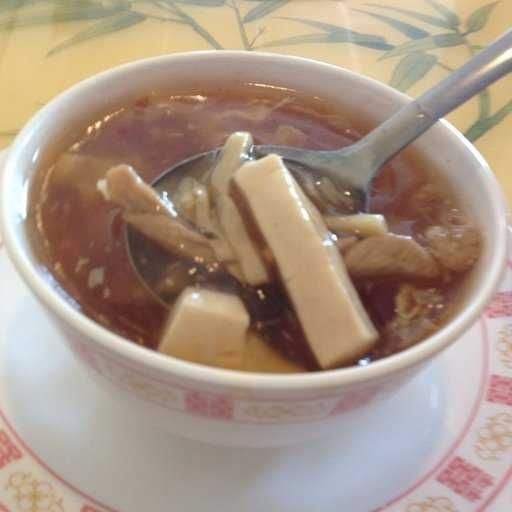soup: (53, 67, 464, 361)
